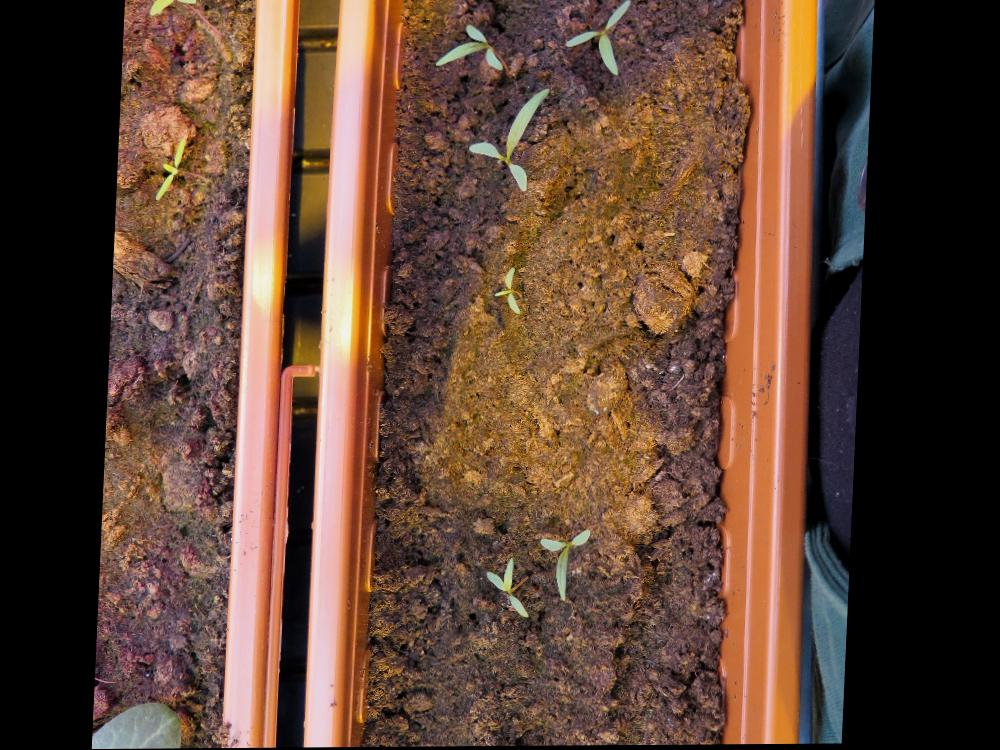weed: (466, 89, 552, 195), (560, 1, 631, 79), (541, 529, 595, 603), (433, 24, 506, 72), (487, 557, 538, 620), (156, 139, 188, 202), (496, 268, 526, 316)
